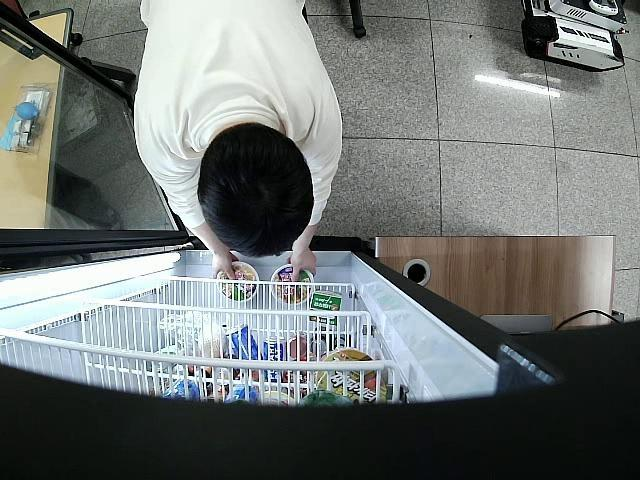09_yukGaeJang: (270, 264, 315, 304), (218, 262, 260, 302)
